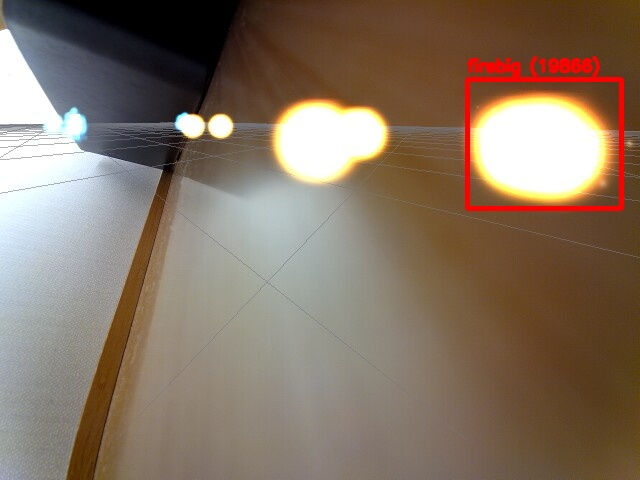firebig: (467, 79, 621, 208)
